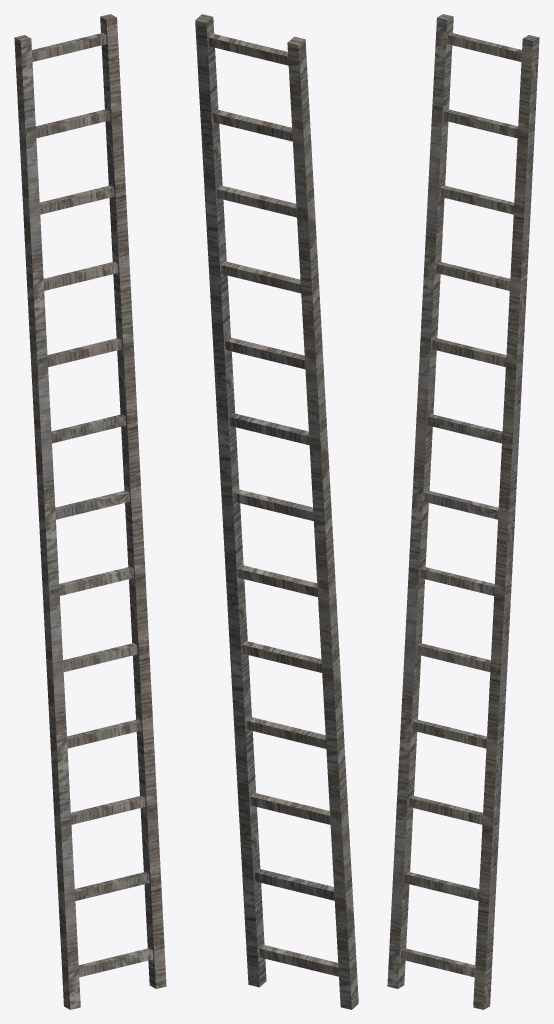
The model's file is ladder.fbx.
3 renders of one model, left to right at view 1: azimuth 30°, elevation 25°; view 2: azimuth 150°, elevation 25°; view 3: azimuth 330°, elevation 25°, orthographic. The views are drawn at different scales.
Parts seen in each view (by area): view 1: Ladder; view 2: Ladder; view 3: Ladder.
Part boxes in pixels (left/top/right/bottom): Ladder: left=14, top=14, right=166, bottom=1009; Ladder: left=195, top=14, right=358, bottom=1009; Ladder: left=387, top=14, right=539, bottom=1009.
Size of the model in its own units: 0.3145 by 2.92 by 0.3168.
